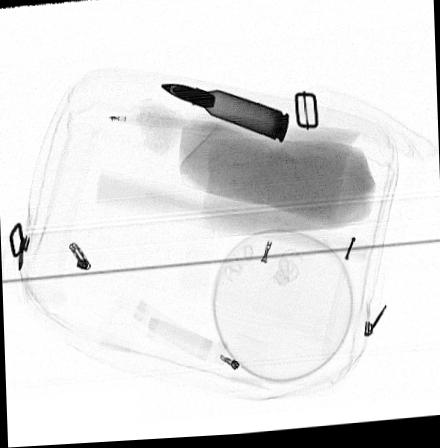Bullet: (160, 85, 290, 147)
